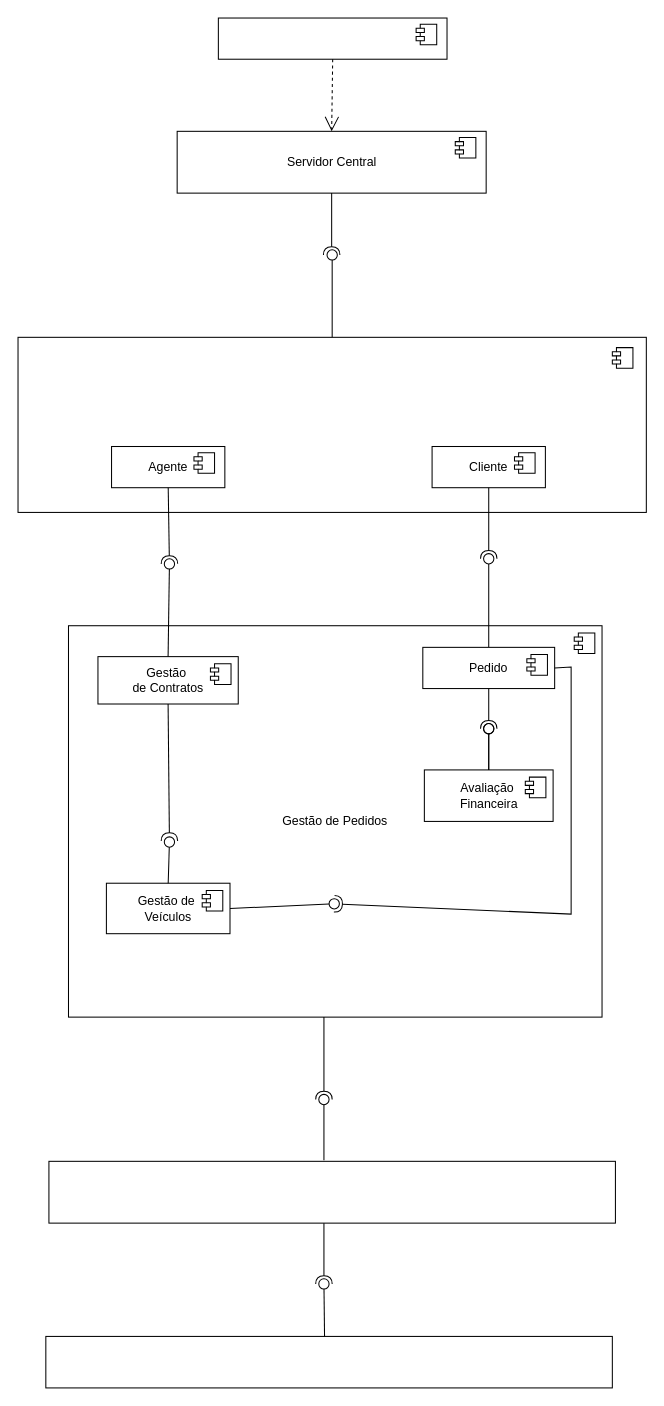
Some shapes in this 664 by 1406 pixel diagram are drawn without their labels. Here are the shapes that lost their labels. From the top down, the box of each, then its label:
(217, 17, 447, 59): Navegadores
(17, 336, 646, 512): Gestão de Usuários
(48, 1160, 615, 1223): Persistência
(45, 1335, 612, 1388): Banco de Dados
